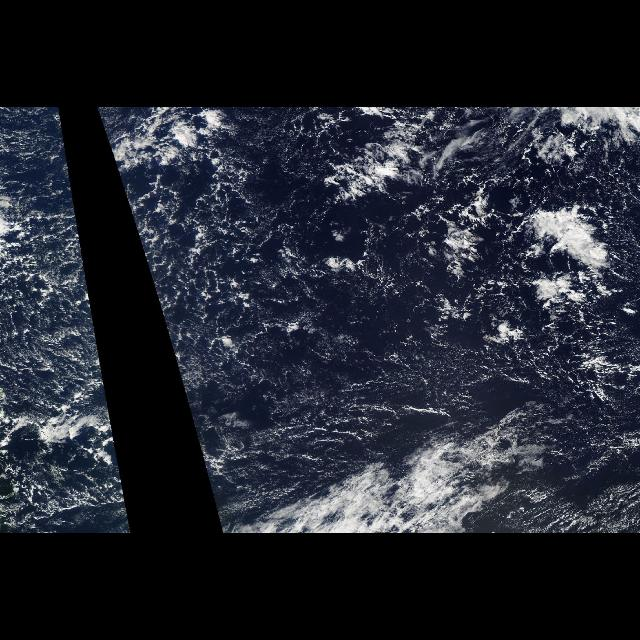Gravel: (122, 186, 634, 404), (2, 186, 108, 404)
Sugar: (100, 118, 500, 448), (5, 118, 115, 448)
